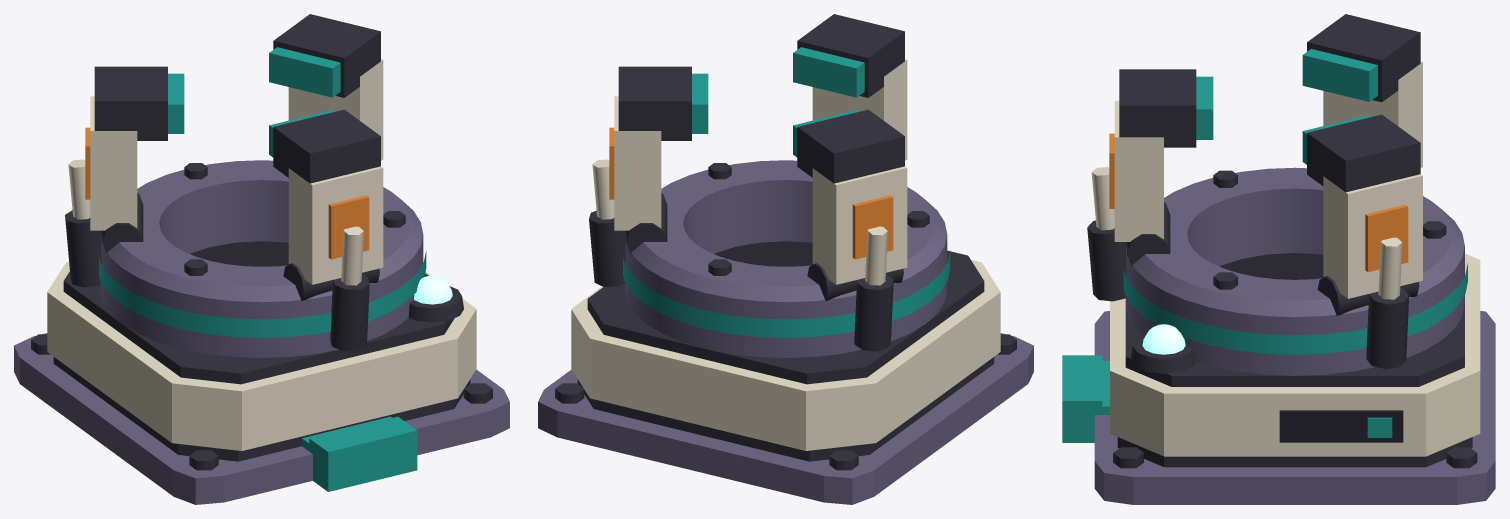
File: sample_sealer.glb
3 renders of one model, left to right at view 1: azimuth 30°, elevation 25°; view 2: azimuth 150°, elevation 25°; view 3: azimuth 270°, elevation 25°, orthographic. The views are drawn at different scales.
Visible parts, largest first — view 1: sealer_PurpleGrey, sealer_CreamHull, sealer_Graphite, sealer_Teal, jaw_1_CreamHull, jaw_1_Graphite, jaw_3_Graphite, jaw_3_CreamHull, jaw_2_Graphite, jaw_2_CreamHull, jaw_2_Teal, sealer_DecalDark (+3 smaller); view 2: sealer_PurpleGrey, sealer_CreamHull, sealer_Graphite, jaw_3_CreamHull, jaw_3_Graphite, jaw_2_Graphite, sealer_Teal, jaw_2_CreamHull, jaw_1_Graphite, jaw_1_CreamHull, jaw_1_Teal, sealer_DecalDark (+2 smaller); view 3: sealer_PurpleGrey, sealer_CreamHull, sealer_Graphite, sealer_Teal, jaw_2_Graphite, jaw_2_CreamHull, jaw_1_Graphite, sealer_DecalDark, jaw_1_CreamHull, jaw_3_Graphite, jaw_3_CreamHull, jaw_3_Teal (+3 smaller).
Part boxes in pixels (bbox=[...]): sealer_PurpleGrey: bbox=[14, 160, 509, 504]; sealer_CreamHull: bbox=[47, 159, 476, 450]; sealer_Graphite: bbox=[31, 163, 492, 470]; sealer_Teal: bbox=[99, 251, 426, 491]; jaw_1_CreamHull: bbox=[288, 166, 383, 284]; jaw_1_Graphite: bbox=[273, 109, 380, 300]; jaw_3_Graphite: bbox=[94, 66, 167, 253]; jaw_3_CreamHull: bbox=[90, 96, 137, 230]; jaw_2_Graphite: bbox=[273, 14, 380, 97]; jaw_2_CreamHull: bbox=[288, 59, 383, 160]; jaw_2_Teal: bbox=[269, 47, 340, 97]; sealer_DecalDark: bbox=[190, 241, 288, 266]; sealer_PurpleGrey: bbox=[538, 160, 1033, 504]; sealer_CreamHull: bbox=[571, 159, 1000, 450]; sealer_Graphite: bbox=[555, 163, 1016, 470]; jaw_3_CreamHull: bbox=[812, 166, 907, 284]; jaw_3_Graphite: bbox=[797, 109, 904, 300]; jaw_2_Graphite: bbox=[618, 66, 691, 253]; sealer_Teal: bbox=[623, 250, 950, 337]; jaw_2_CreamHull: bbox=[614, 96, 661, 230]; jaw_1_Graphite: bbox=[797, 14, 904, 97]; jaw_1_CreamHull: bbox=[812, 59, 907, 160]; jaw_1_Teal: bbox=[793, 47, 864, 97]; sealer_DecalDark: bbox=[714, 241, 812, 266]; sealer_PurpleGrey: bbox=[1094, 167, 1495, 504]; sealer_CreamHull: bbox=[1091, 167, 1480, 456]; sealer_Graphite: bbox=[1087, 170, 1477, 468]; sealer_Teal: bbox=[1062, 263, 1467, 442]; jaw_2_Graphite: bbox=[1307, 114, 1420, 315]; jaw_2_CreamHull: bbox=[1323, 174, 1422, 298]; jaw_1_Graphite: bbox=[1119, 69, 1196, 265]; sealer_DecalDark: bbox=[1219, 253, 1403, 442]; jaw_1_CreamHull: bbox=[1114, 100, 1163, 241]; jaw_3_Graphite: bbox=[1307, 14, 1420, 102]; jaw_3_CreamHull: bbox=[1323, 61, 1422, 167]; jaw_3_Teal: bbox=[1302, 49, 1377, 101].
Bounding box in the file's own units: 0.26 × 0.238 × 0.281.
